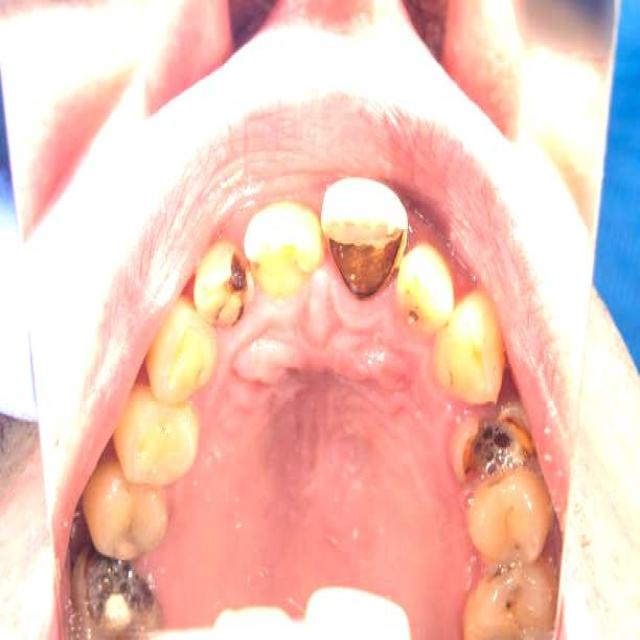caries: (451, 391, 539, 491), (77, 548, 171, 640), (324, 203, 406, 301), (202, 243, 258, 336), (485, 560, 525, 629), (396, 295, 430, 340)
